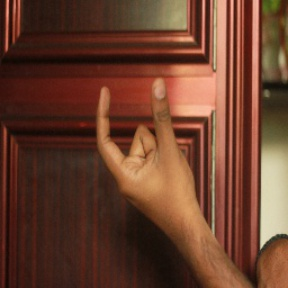U: (91, 72, 187, 203)
